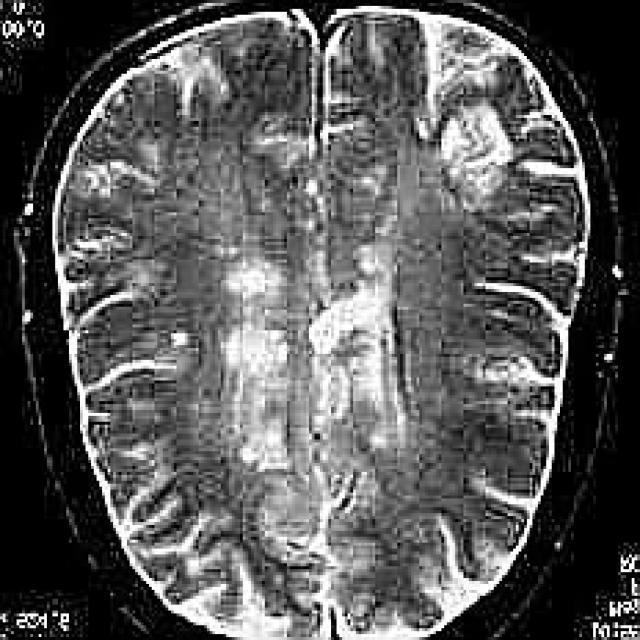notumor: (22, 0, 637, 637)
